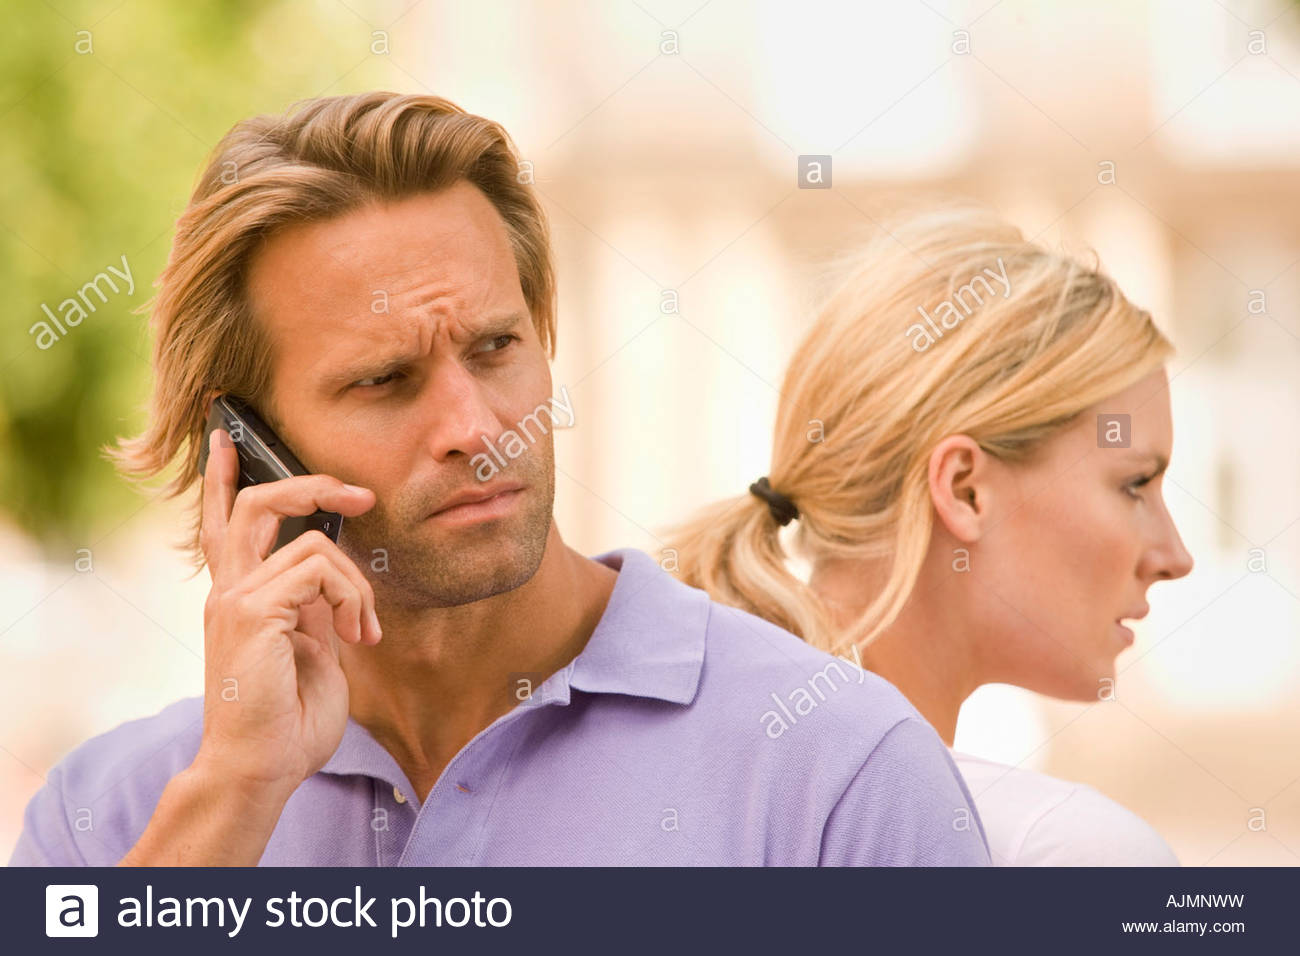phone: (195, 401, 352, 568)
talk: (186, 293, 567, 801)
